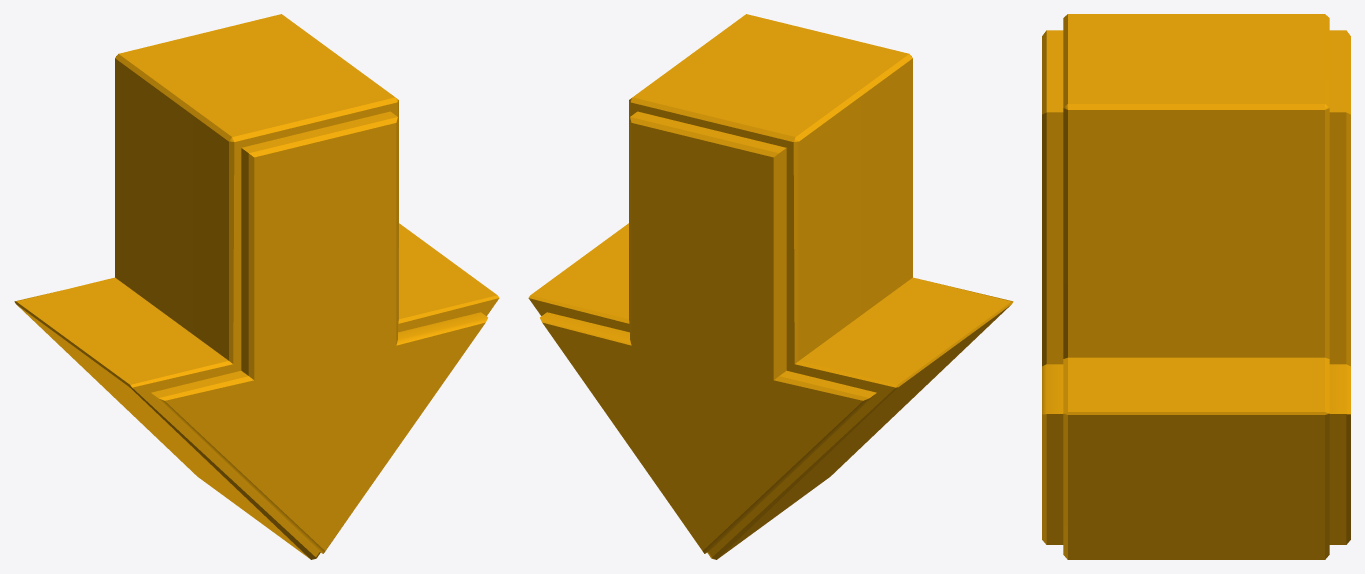
File: Emitter.ambre.glb
3 views of the same model, side by side, from view 1: azimuth 30°, elevation 25°; view 2: azimuth 150°, elevation 25°; view 3: azimuth 270°, elevation 25° (orthographic). The views are drawn at different scales.
Visible parts, largest first — view 1: Emitter; view 2: Emitter; view 3: Emitter.
Part boxes in pixels (x1,y1,x2,y2): Emitter: (14,14,499,559); Emitter: (528,14,1013,559); Emitter: (1042,14,1350,559).
Size of the model in its own units: 0.2145 by 0.2458 by 0.1377.
